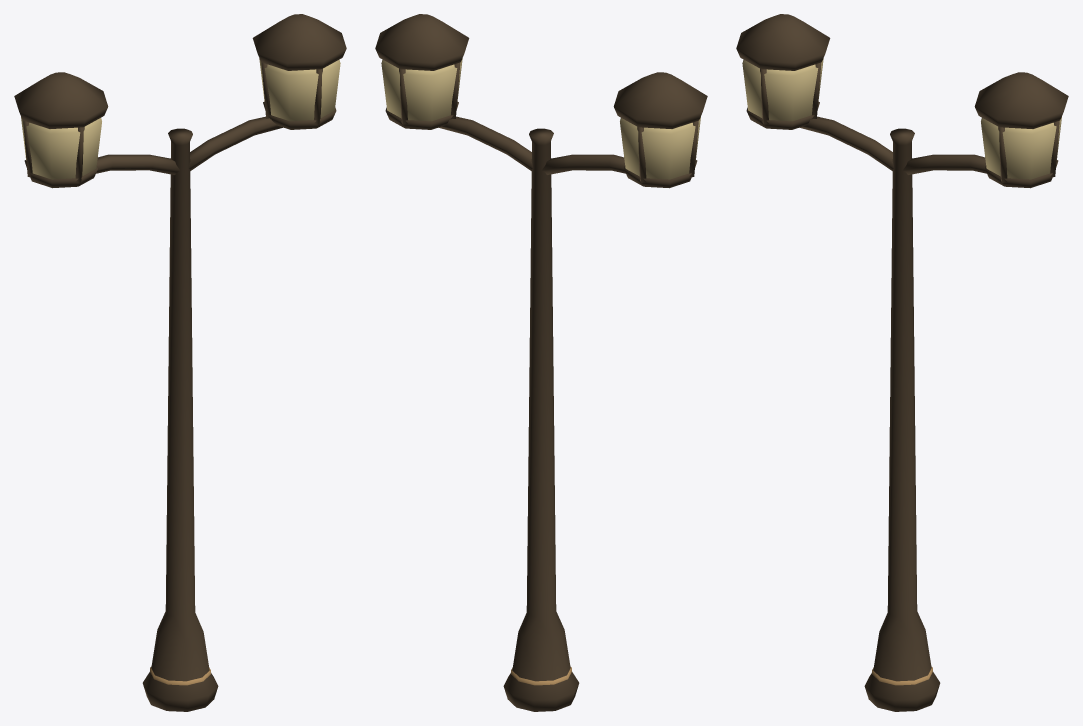
The model's file is lamp_double.glb.
3 renders of one model, left to right at view 1: azimuth 30°, elevation 25°; view 2: azimuth 150°, elevation 25°; view 3: azimuth 330°, elevation 25°, orthographic.
Visible parts, largest first — view 1: lamp_double; view 2: lamp_double; view 3: lamp_double.
Part boxes in pixels (x1=…): lamp_double: x1=14, y1=14, x2=346, y2=711; lamp_double: x1=375, y1=14, x2=707, y2=711; lamp_double: x1=736, y1=14, x2=1068, y2=711.
Size of the model in its own units: 1.76 by 3.39 by 0.46.
